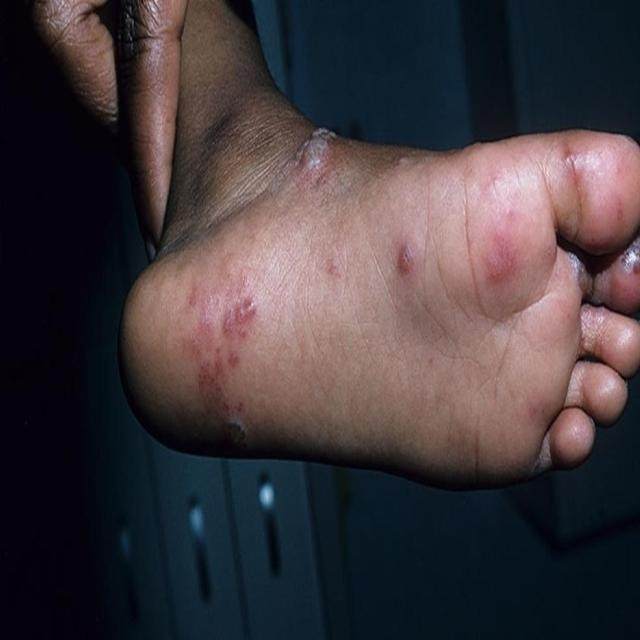Shingles: (192, 277, 256, 431), (478, 209, 528, 287), (298, 126, 340, 178), (392, 237, 425, 270)
